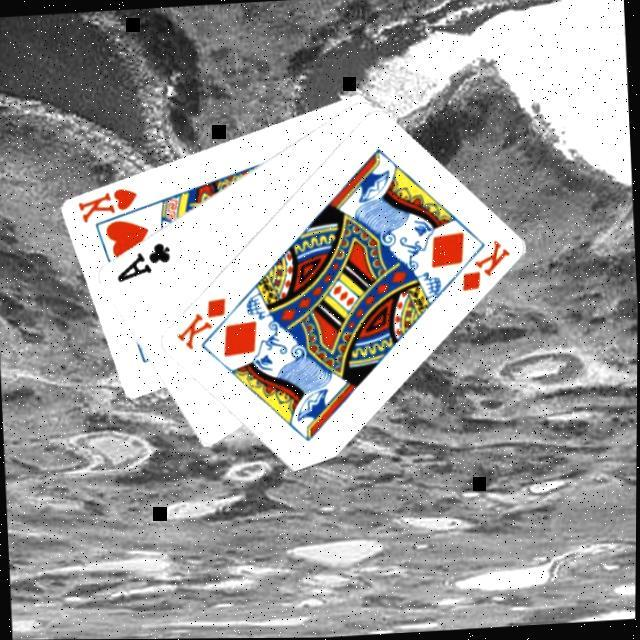AC: (110, 240, 173, 286)
KD: (169, 294, 229, 356), (454, 238, 514, 297)
KH: (72, 185, 140, 227)
